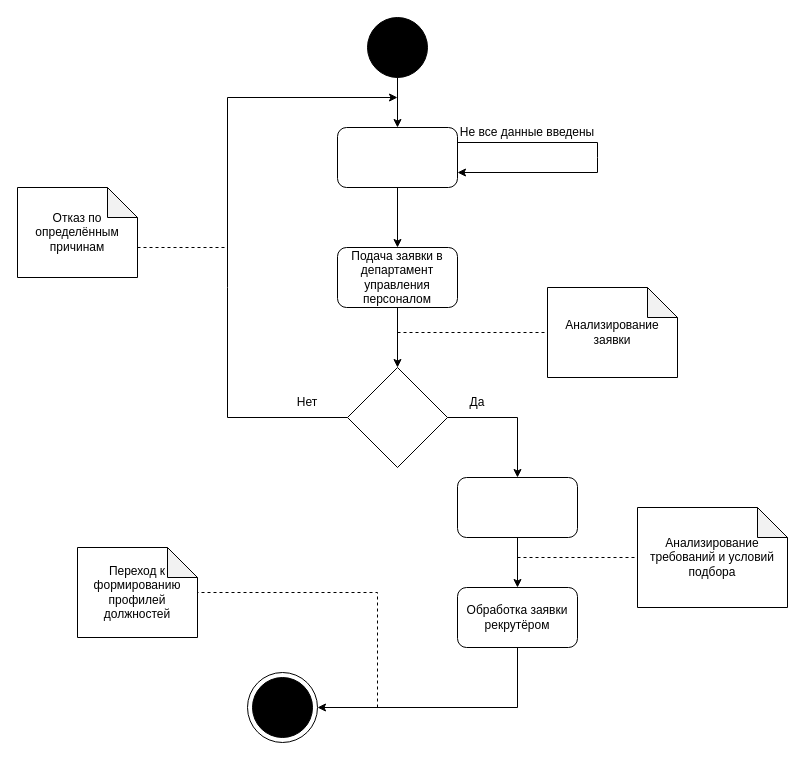
This 805x760 diagram has some shape labels left out. The centre of each missing label's shape, as x and y in pixels:
"Заполнение заявки на подбор руководителем подразделения" belongs at point 397,157.
"Заявка была визирована ?" belongs at point 397,417.
"Передача заявки рекрутеру" belongs at point 517,507.
